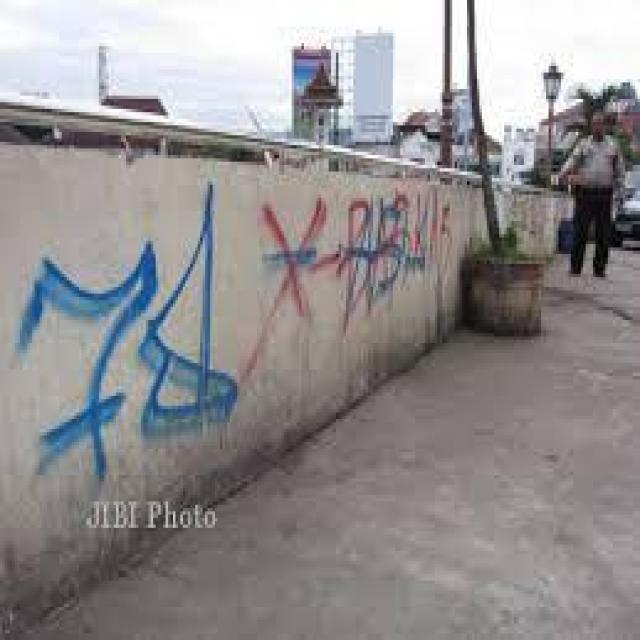nonspitting: (14, 178, 240, 490), (257, 191, 453, 334)
